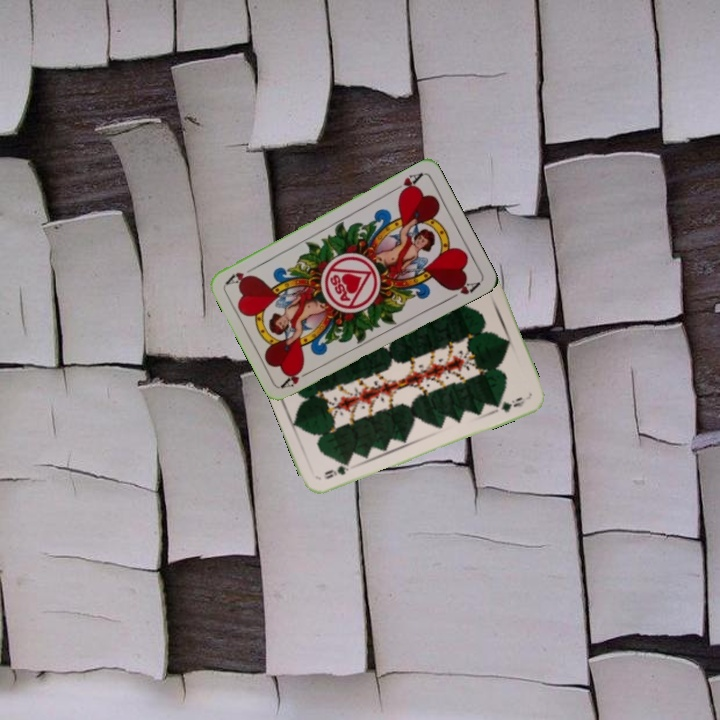G9: (321, 459, 353, 482)
HA: (388, 169, 425, 198), (278, 364, 316, 391)
